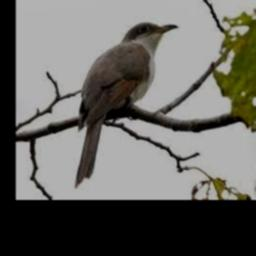Cuckoo: (75, 22, 179, 188)
